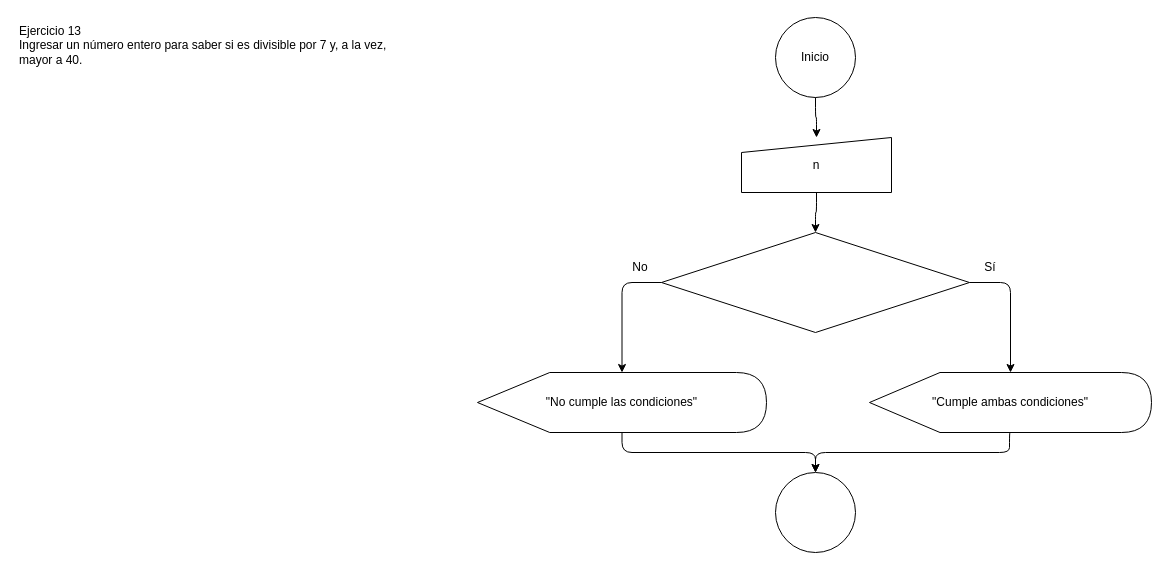
This 1169x570 diagram has some shape labels left out. Here are the shapes that lost their labels. From the top down, the centre of each, then its label:
At (x=815, y=282): "n MOD 7 = 0 Y n > 40".
At (x=815, y=512): "Fin".
